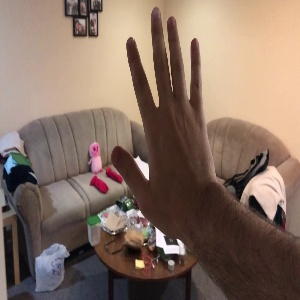hand: (111, 7, 216, 216)
